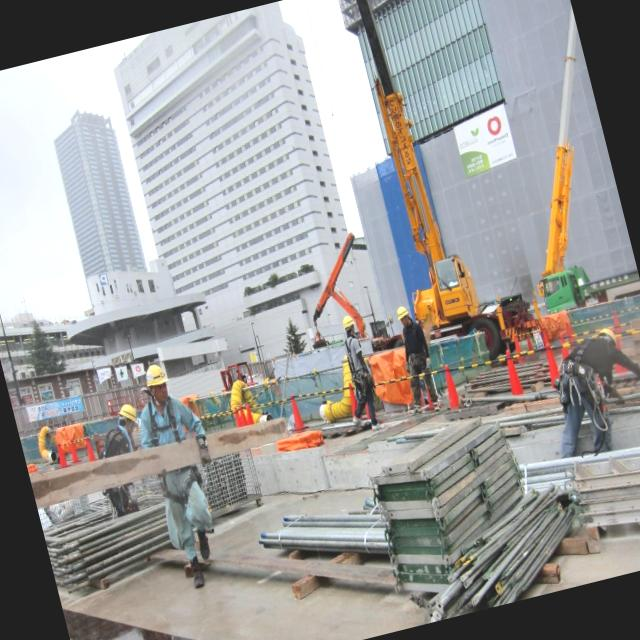helmet: (138, 358, 174, 400)
